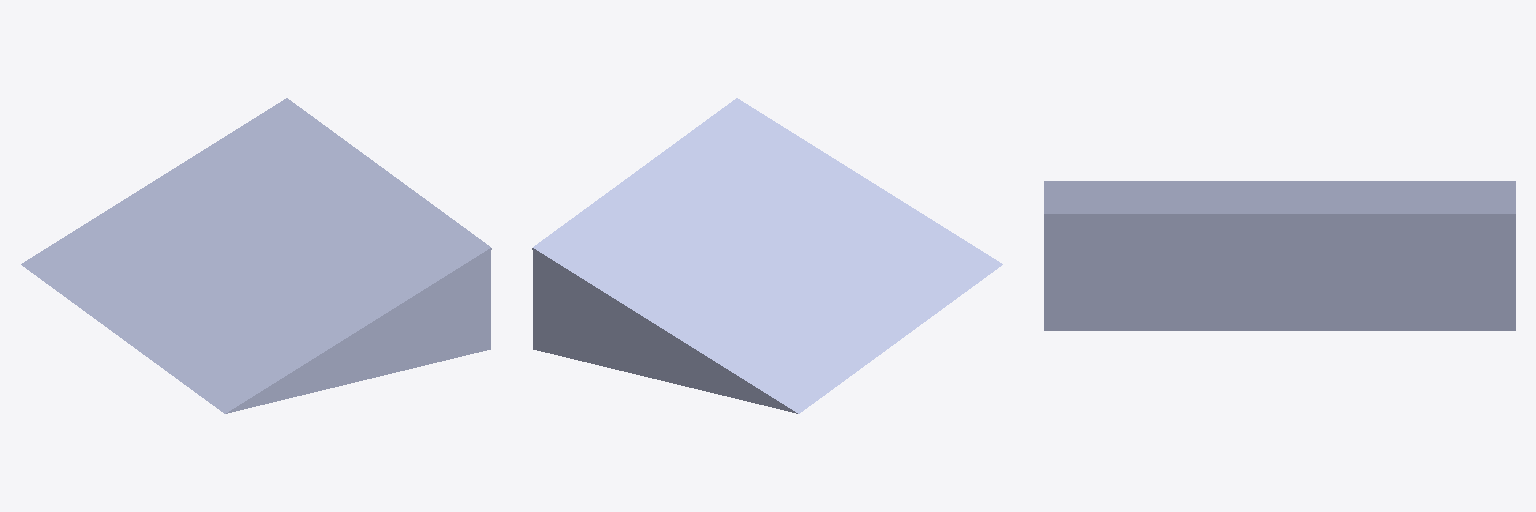
The robot description file, URDF, robot "slope_20":
<?xml version="1.0" encoding="utf-8"?>
<!-- This URDF was automatically created by SolidWorks to URDF Exporter! Originally created by [author] ([email redacted]) 
     Commit Version: 1.5.1-0-g916b5db  Build Version: 1.5.7152.31018
     For more information, please see http://wiki.ros.org/sw_urdf_exporter -->
<robot
  name="slope_20">
  <link
    name="slope_20">
    <inertial>
      <origin
        xyz="1.0019 -1 0.18216"
        rpy="0 0 0" />
      <mass
        value="824.37" />
      <inertia
        ixx="288.58"
        ixy="-4.05673796137317E-14"
        ixz="-18.906"
        iyy="117.24"
        iyz="3.4766112917382E-14"
        izz="378.24" />
    </inertial>
    <visual>
      <origin
        xyz="0 0 0"
        rpy="1.5707963267949 0 0" />
      <geometry>
        <mesh
          filename="package://slope_20/meshes/slope_20.STL" />
      </geometry>
      <material
        name="">
        <color
          rgba="0.79216 0.81961 0.93333 1" />
        <texture
          filename="package://slope_20/textures/" />
      </material>
    </visual>
    <collision>
      <origin
        xyz="0 0 0"
        rpy="1.5707963267949 0 0" />
      <geometry>
        <mesh
          filename="package://slope_20/meshes/slope_20.STL" />
      </geometry>
    </collision>
  </link>
</robot>

--- What the picture shows (computed from the rendered views, not written in the file) ---
3 views of the same robot in one strip: view 1: azimuth 30°, elevation 25°; view 2: azimuth 150°, elevation 25°; view 3: azimuth 270°, elevation 25° (orthographic).
Model slope_20 with 1 links and 0 joints (none), rooted at slope_20, posed all joints at 0.
Visible links, largest first — view 1: slope_20; view 2: slope_20; view 3: slope_20.
Boxes of the visible links, left/top/right/bottom form: slope_20: left=21, top=98, right=491, bottom=413; slope_20: left=532, top=98, right=1002, bottom=413; slope_20: left=1044, top=181, right=1515, bottom=330.
Bounding box of the posed robot: 1.51 × 2 × 0.5495 m (x, y, z).
1 mesh visuals loaded from 1 distinct referenced files (1 binary STL).